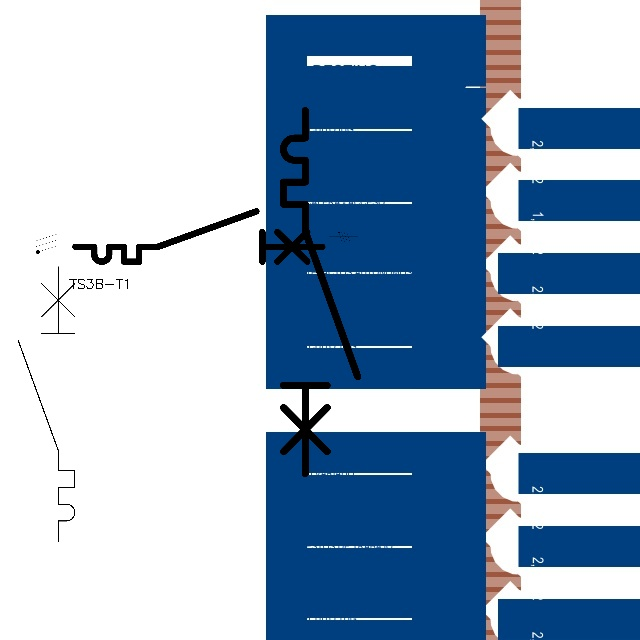interruptor_termomagnetico: (274, 101, 367, 482), (11, 259, 82, 549), (69, 205, 329, 268)
